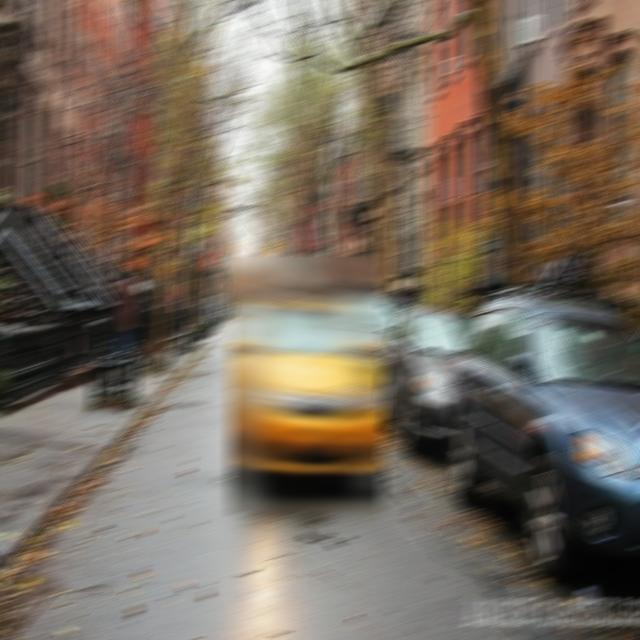Taxi: (228, 254, 385, 513)
